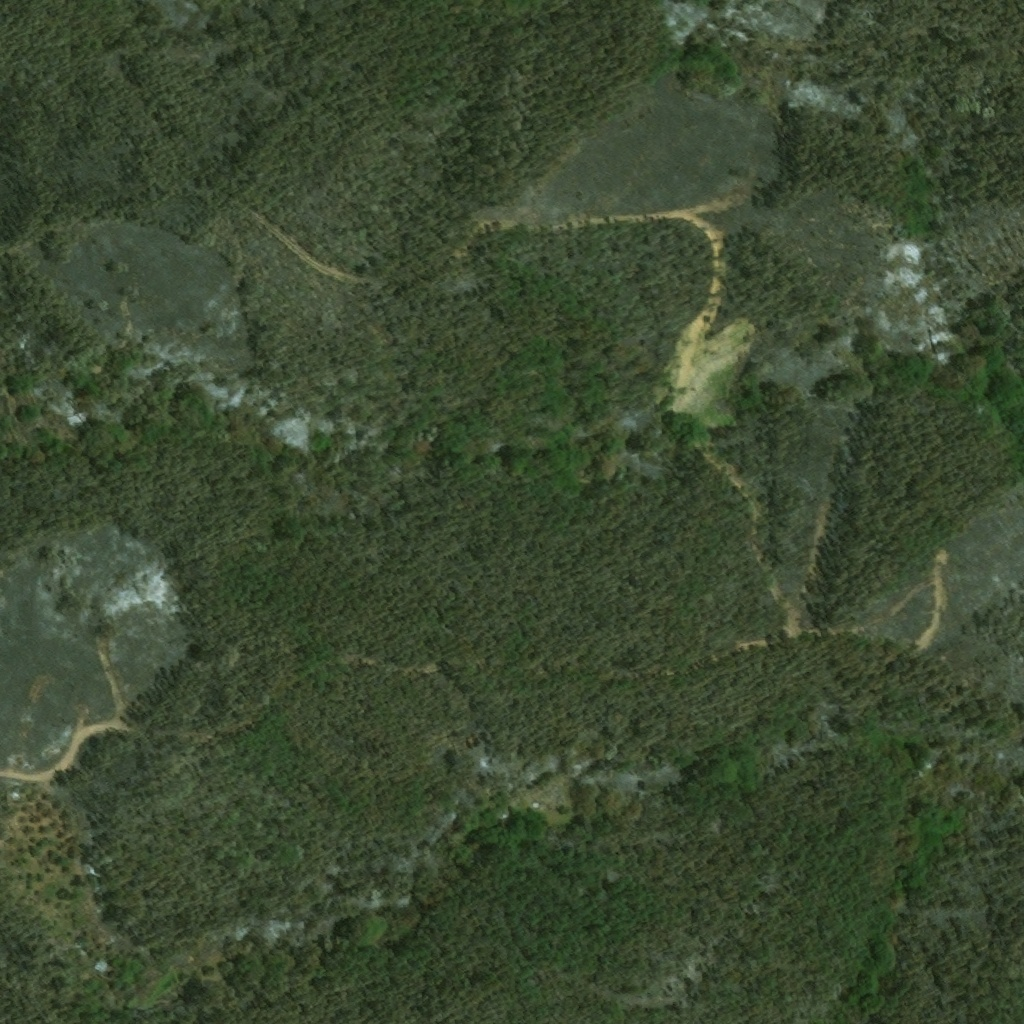0 no-damage: (92, 959, 109, 975)
